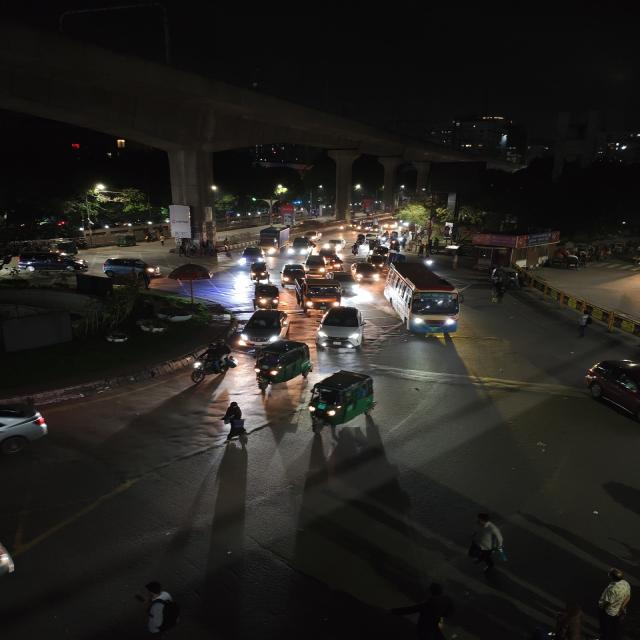bus: (383, 261, 467, 339)
car: (581, 356, 640, 434), (0, 399, 53, 460), (314, 304, 367, 352), (234, 308, 294, 347), (15, 250, 89, 272), (99, 254, 163, 278), (280, 262, 308, 288), (349, 260, 381, 282), (235, 246, 268, 267), (284, 238, 315, 256), (302, 255, 329, 275), (324, 237, 348, 251)
cng: (303, 369, 388, 435), (251, 340, 314, 392), (249, 282, 282, 309), (51, 239, 89, 255), (247, 264, 273, 283), (113, 233, 139, 249), (326, 255, 345, 271)
motorcycle: (188, 343, 237, 385), (420, 251, 437, 269)
pedestrian: (129, 578, 185, 640), (593, 566, 636, 637), (464, 510, 509, 574), (418, 579, 458, 639), (220, 400, 249, 448), (572, 310, 596, 338), (488, 280, 508, 304), (158, 234, 169, 246)
pickup_van: (296, 276, 345, 310)
rickshaw: (351, 237, 367, 257), (559, 256, 580, 269)
truck: (256, 225, 286, 253)
